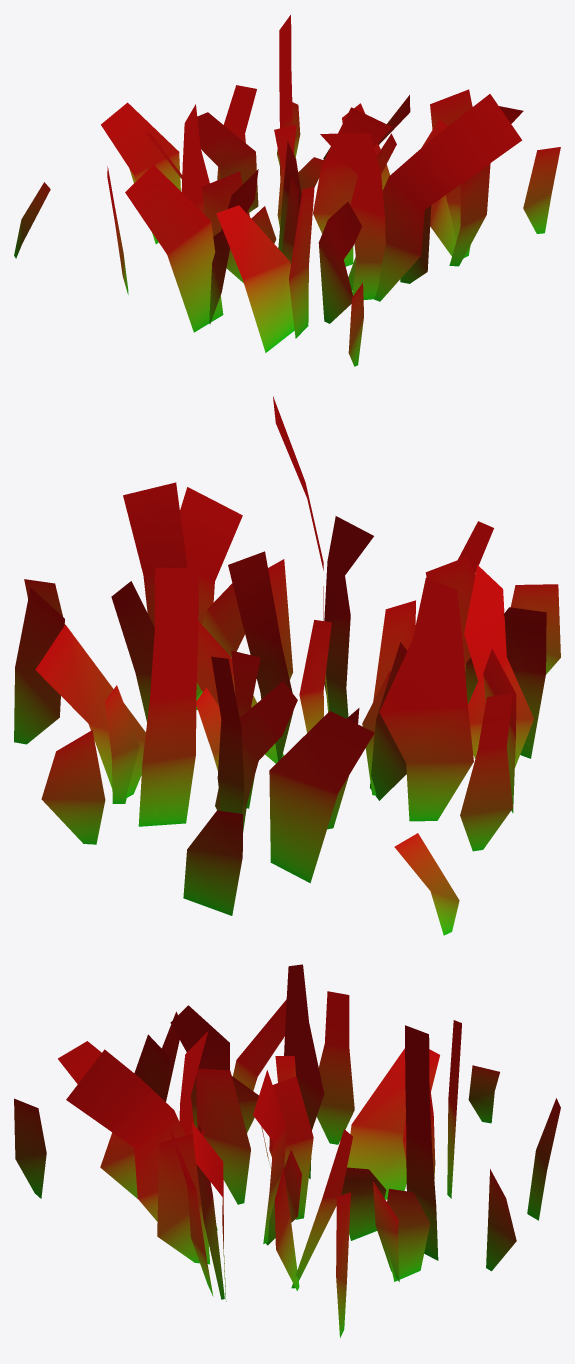
The model's file is Var2_LOD1.fbx.
3 renders of one model, top to bottom at view 1: azimuth 30°, elevation 25°; view 2: azimuth 150°, elevation 25°; view 3: azimuth 270°, elevation 25°, orthographic. The views are drawn at different scales.
Parts seen in each view (by area): view 1: _9a53_Var2_LOD1; view 2: _9a53_Var2_LOD1; view 3: _9a53_Var2_LOD1.
Boxes of the visible parts, left/top/right/bottom form: _9a53_Var2_LOD1: left=14, top=15, right=560, bottom=366; _9a53_Var2_LOD1: left=14, top=396, right=560, bottom=935; _9a53_Var2_LOD1: left=14, top=964, right=560, bottom=1337.
Size of the model in its own units: 11.2 by 5.48 by 10.84.
